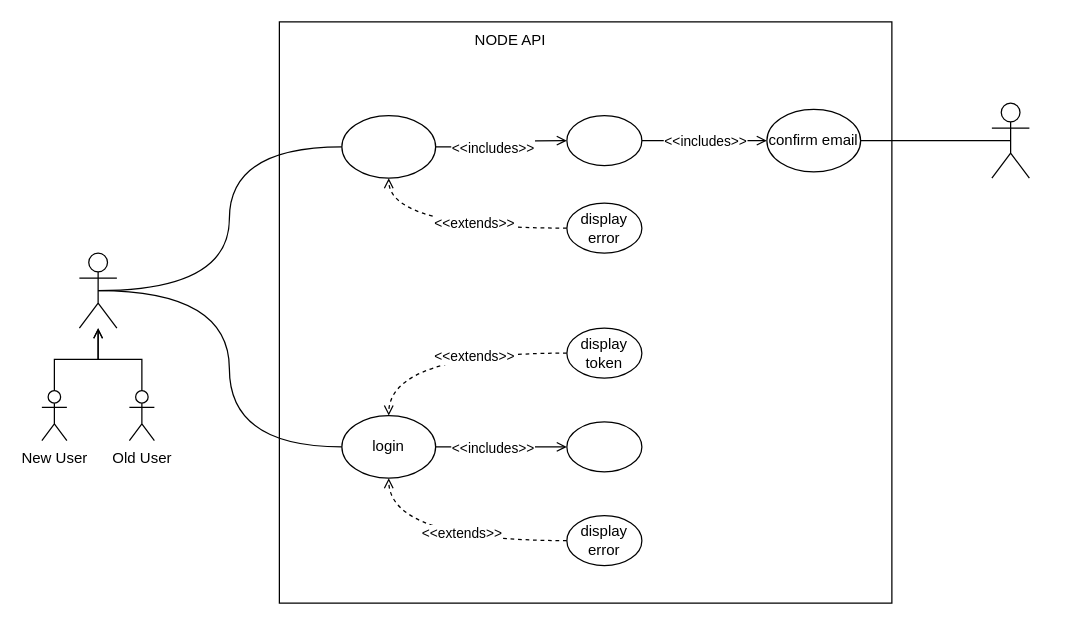
This 1078x625 diagram has some shape labels left out. The shapes that lost their labels are listed below. From the top down, each one's box as (x1, y1, x2, y2) in pixels, then its label:
(341, 114, 436, 178): signup
(566, 114, 642, 166): validate data
(991, 102, 1029, 178): Email Service
(566, 421, 642, 472): verify
